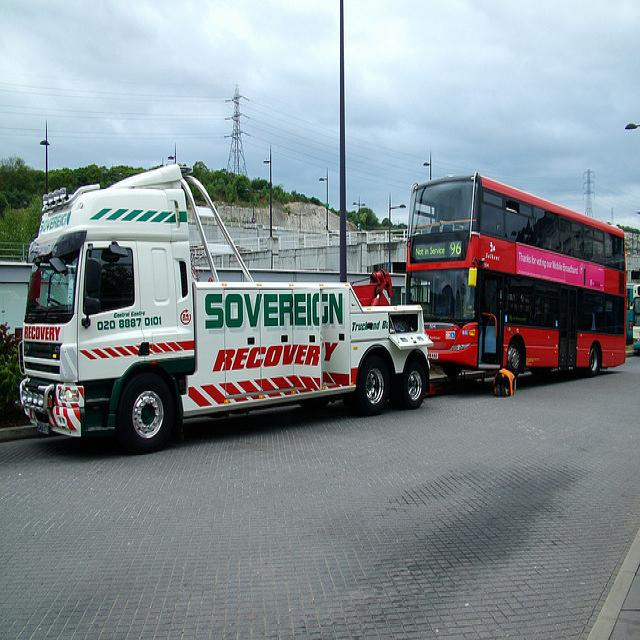Vehicle: (18, 165, 434, 445), (389, 174, 631, 384)
